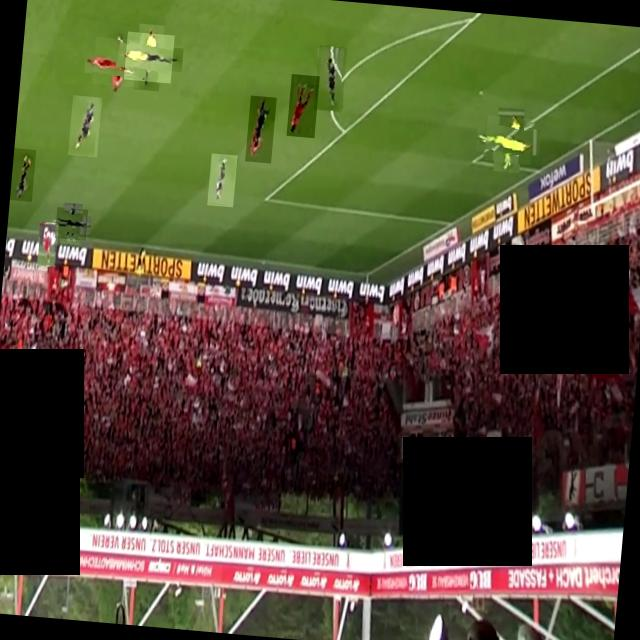goalkeeper: (484, 114, 534, 164)
referee: (124, 31, 174, 83)
soccer-player: (92, 36, 142, 88), (313, 45, 347, 112), (244, 94, 276, 162), (286, 74, 319, 138), (67, 95, 101, 156), (207, 153, 237, 207), (10, 148, 36, 202), (54, 207, 88, 240), (36, 222, 58, 266)
